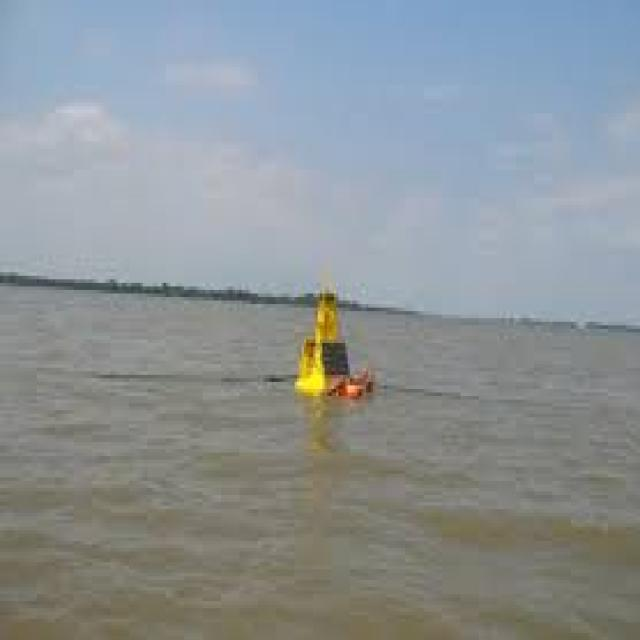buoy: (284, 280, 380, 422)
